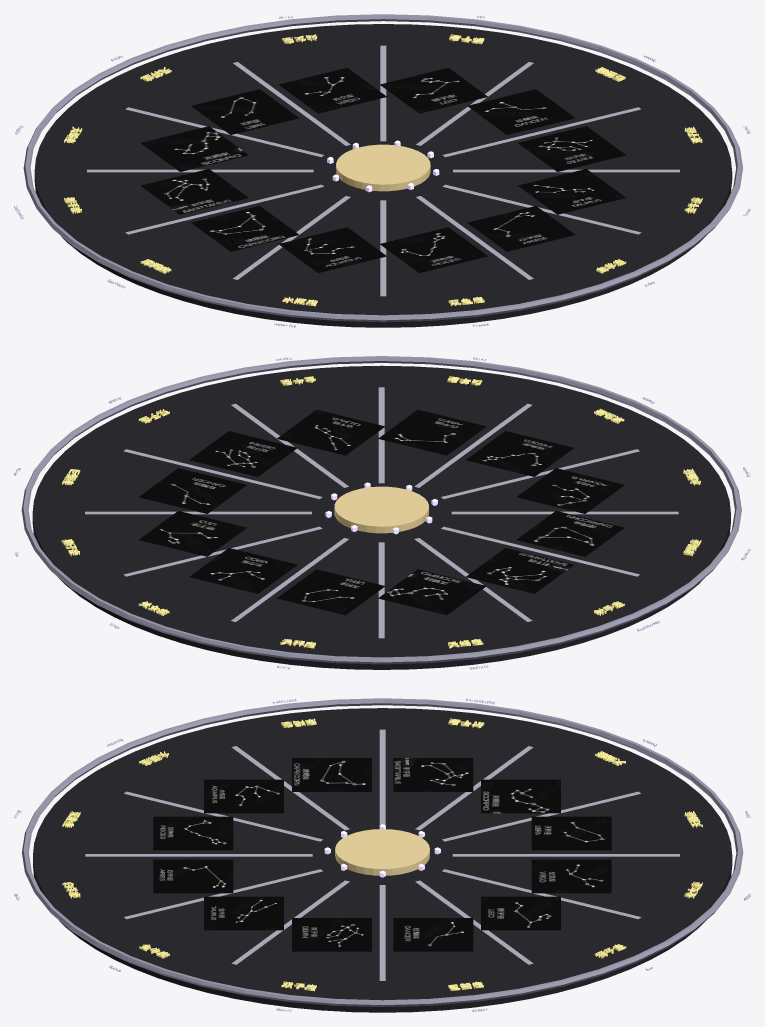
The model's file is zodiac_wheel.glb.
The picture shows the model from 3 angles, top to bottom: view 1: azimuth 30°, elevation 25°; view 2: azimuth 150°, elevation 25°; view 3: azimuth 270°, elevation 25°; orthographic projection.
Visible parts, largest first — view 1: zodiac_wheel; view 2: zodiac_wheel; view 3: zodiac_wheel.
Boxes of the visible parts, x1=… form: zodiac_wheel: x1=14, y1=14, x2=750, y2=327; zodiac_wheel: x1=14, y1=356, x2=750, y2=669; zodiac_wheel: x1=14, y1=698, x2=750, y2=1012.
Size of the model in its own units: 2.96 by 0.078 by 2.95.
Materials: 59 (12 with a texture image).
